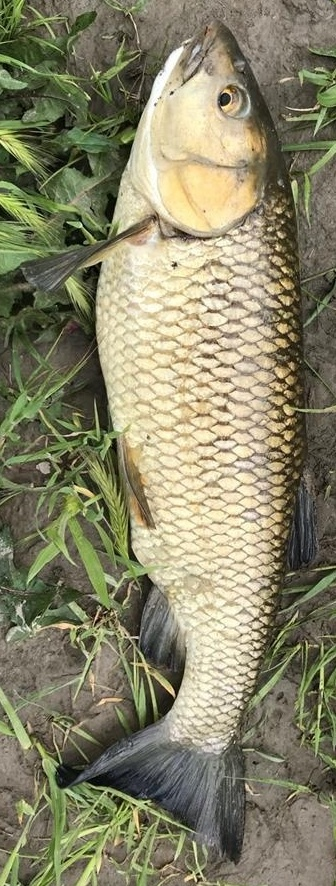Leuciscus cephalus: (20, 20, 316, 866)
